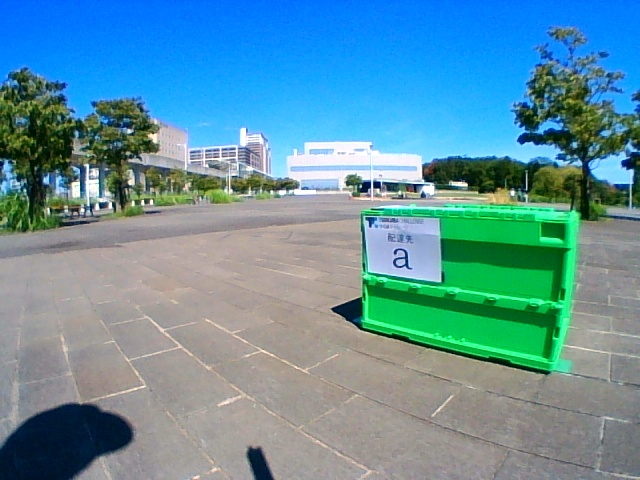green_box: (361, 205, 579, 373)
tag_a: (367, 218, 438, 274)
